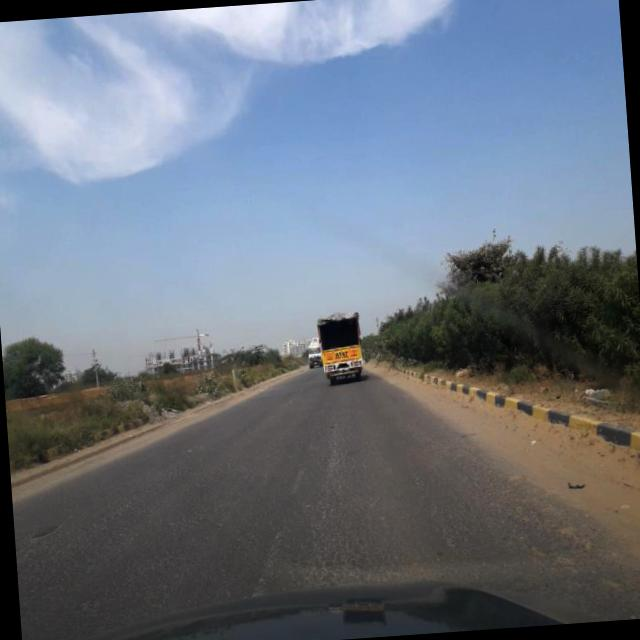crack: (287, 423, 388, 583)
